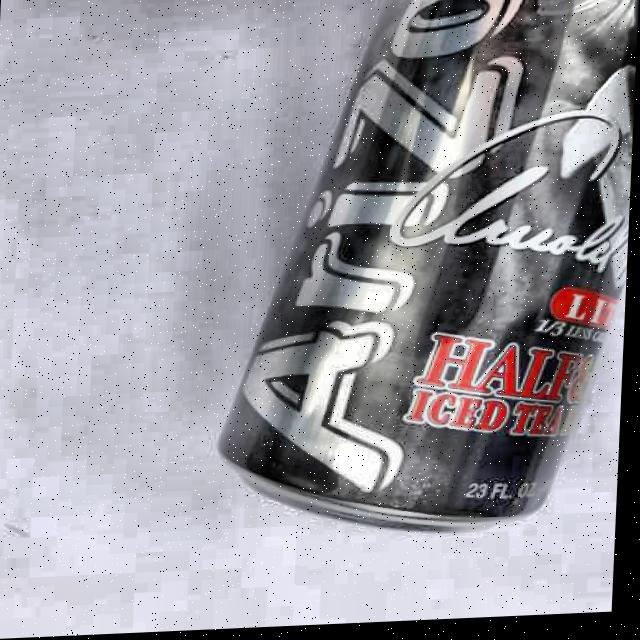metal: (208, 0, 639, 543)
